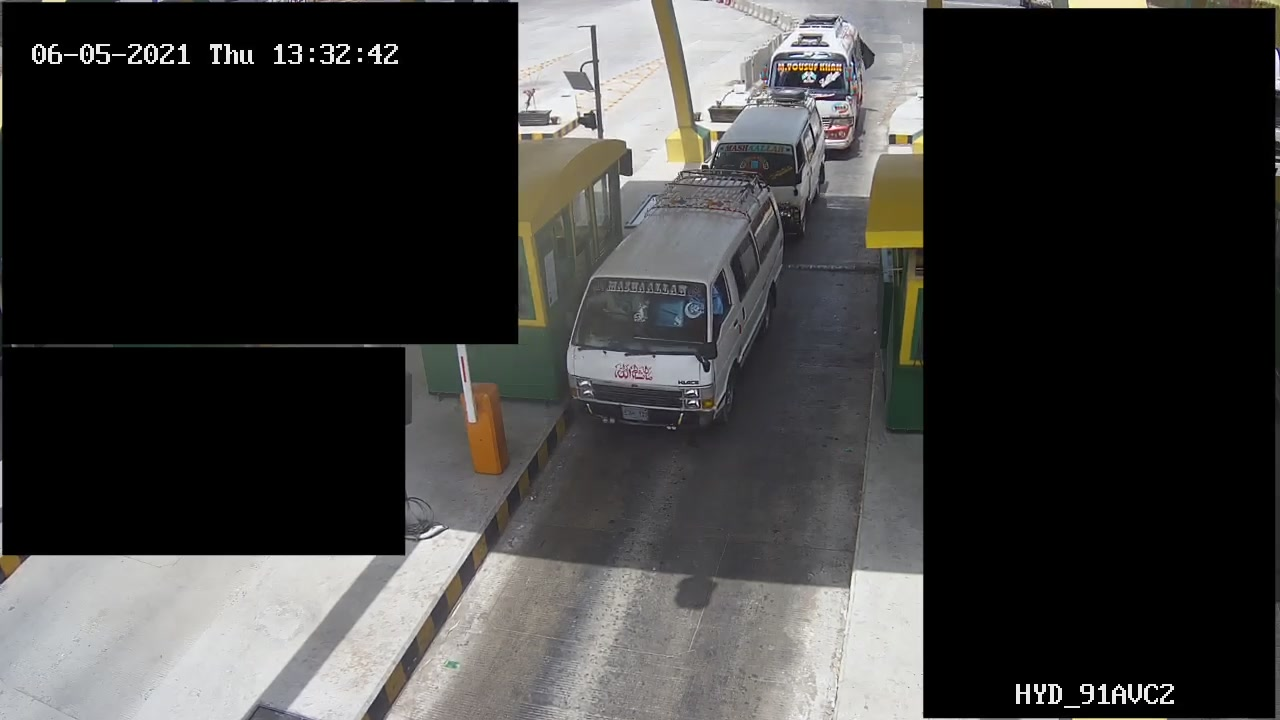F2: (565, 167, 778, 443)
